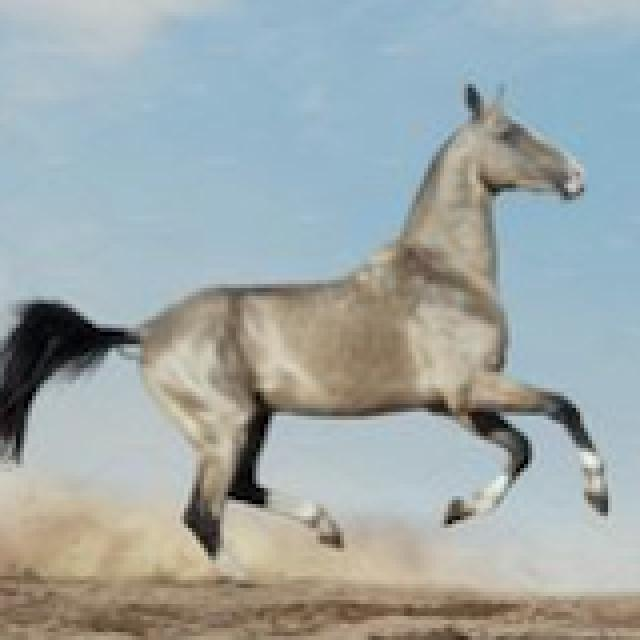Horse: (0, 72, 620, 576)
